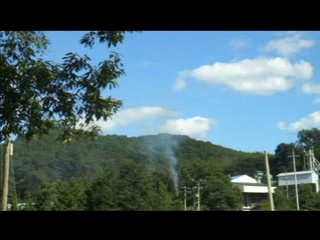smoke: (146, 116, 183, 199)
